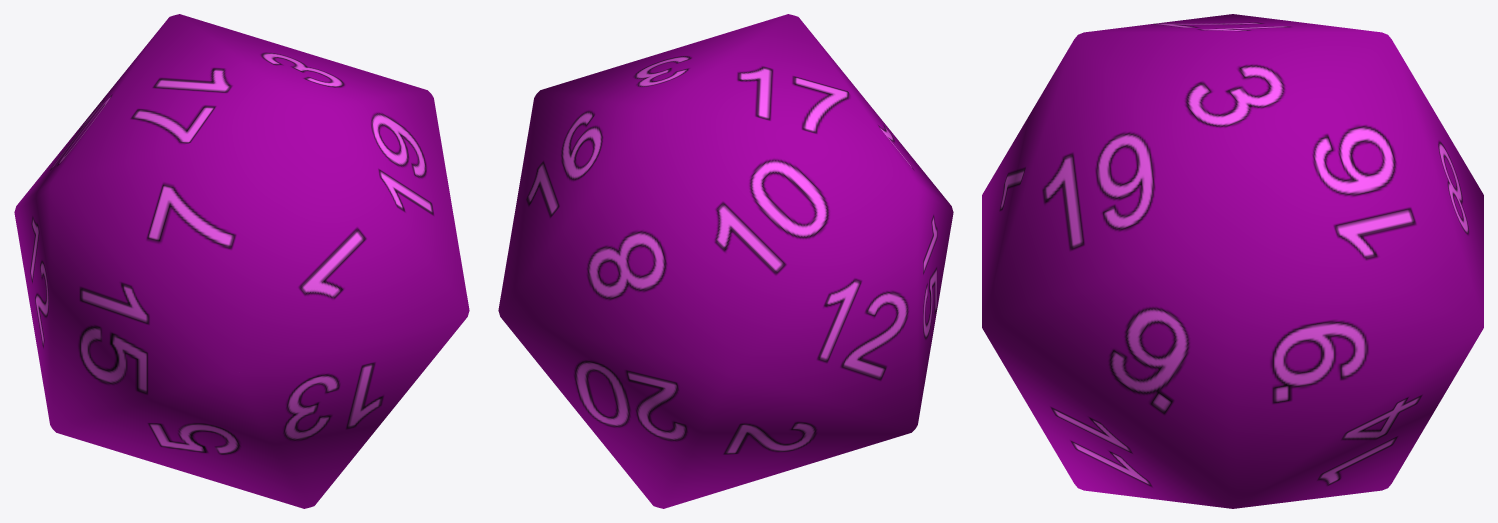
3 views of the same model, side by side, from view 1: azimuth 30°, elevation 25°; view 2: azimuth 150°, elevation 25°; view 3: azimuth 270°, elevation 25° (orthographic). The views are drawn at different scales.
Size of the model in its own units: 170 by 170 by 170.
1 material, 1 textured.
